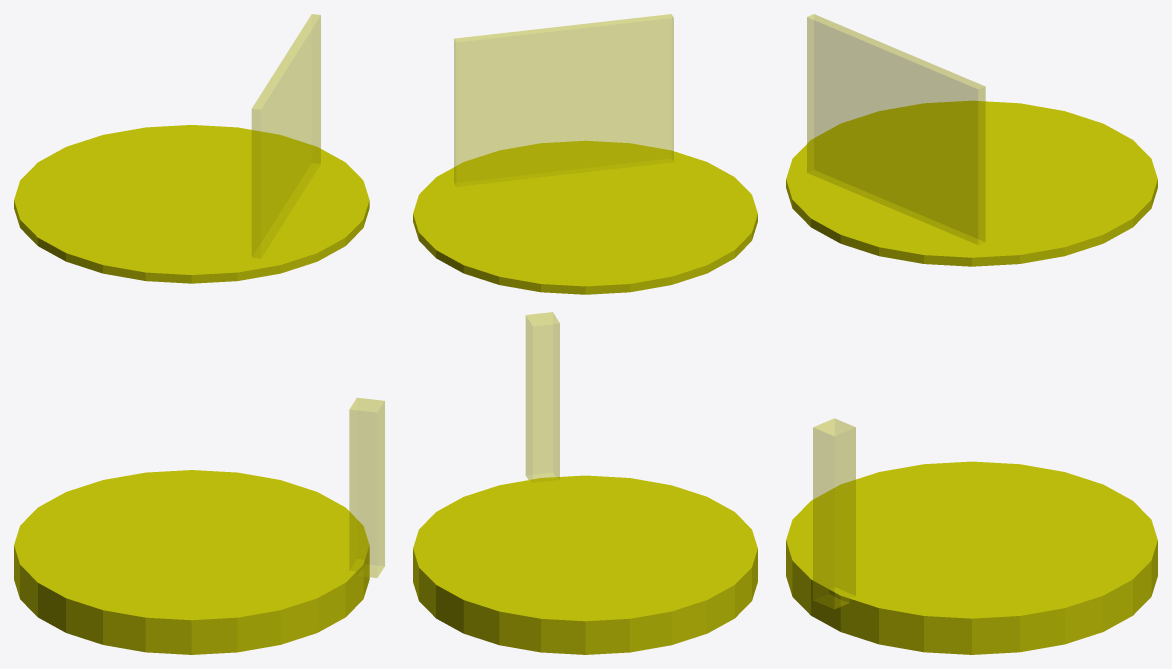
Rendered from flynns-exterior-collider.dae.
3 renders of one model, left to right at view 1: azimuth 30°, elevation 25°; view 2: azimuth 150°, elevation 25°; view 3: azimuth 270°, elevation 25°, orthographic. The views are drawn at different scales.
Visible parts, largest first — view 1: Cylinder_022, Cylinder_008, Cube_002, Cube_005; view 2: Cylinder_022, Cylinder_008, Cube_002, Cube_005; view 3: Cylinder_022, Cylinder_008, Cube_002, Cube_005.
Boxes of the visible parts, x1,y1,x2,y2 form: Cylinder_022: (14,470,369,654); Cylinder_008: (14,125,369,283); Cube_002: (252,14,320,258); Cube_005: (349,398,384,577); Cylinder_022: (413,475,757,654); Cylinder_008: (413,140,757,294); Cube_002: (454,14,673,186); Cube_005: (526,312,559,482); Cylinder_022: (786,461,1157,654); Cylinder_008: (786,100,1157,266); Cube_002: (807,14,985,244); Cube_005: (813,418,855,608).
Size of what is drawn, in the model's own units: 8.22 by 8.22 by 13.52.
